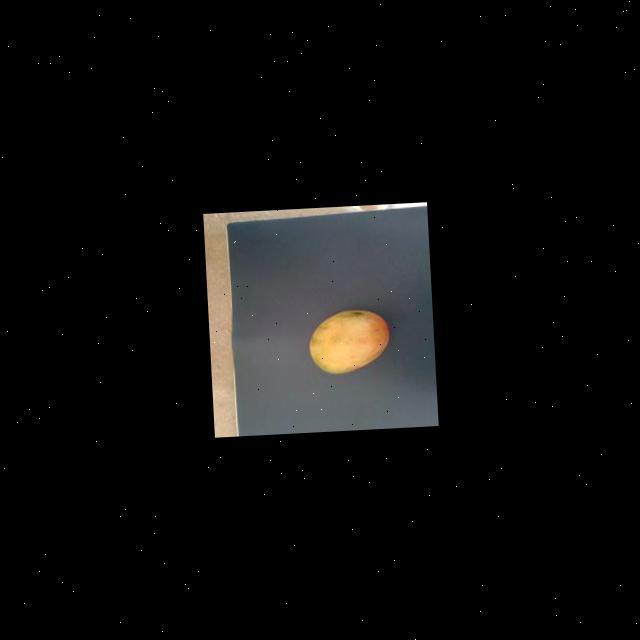Mango: (306, 308, 390, 376)
